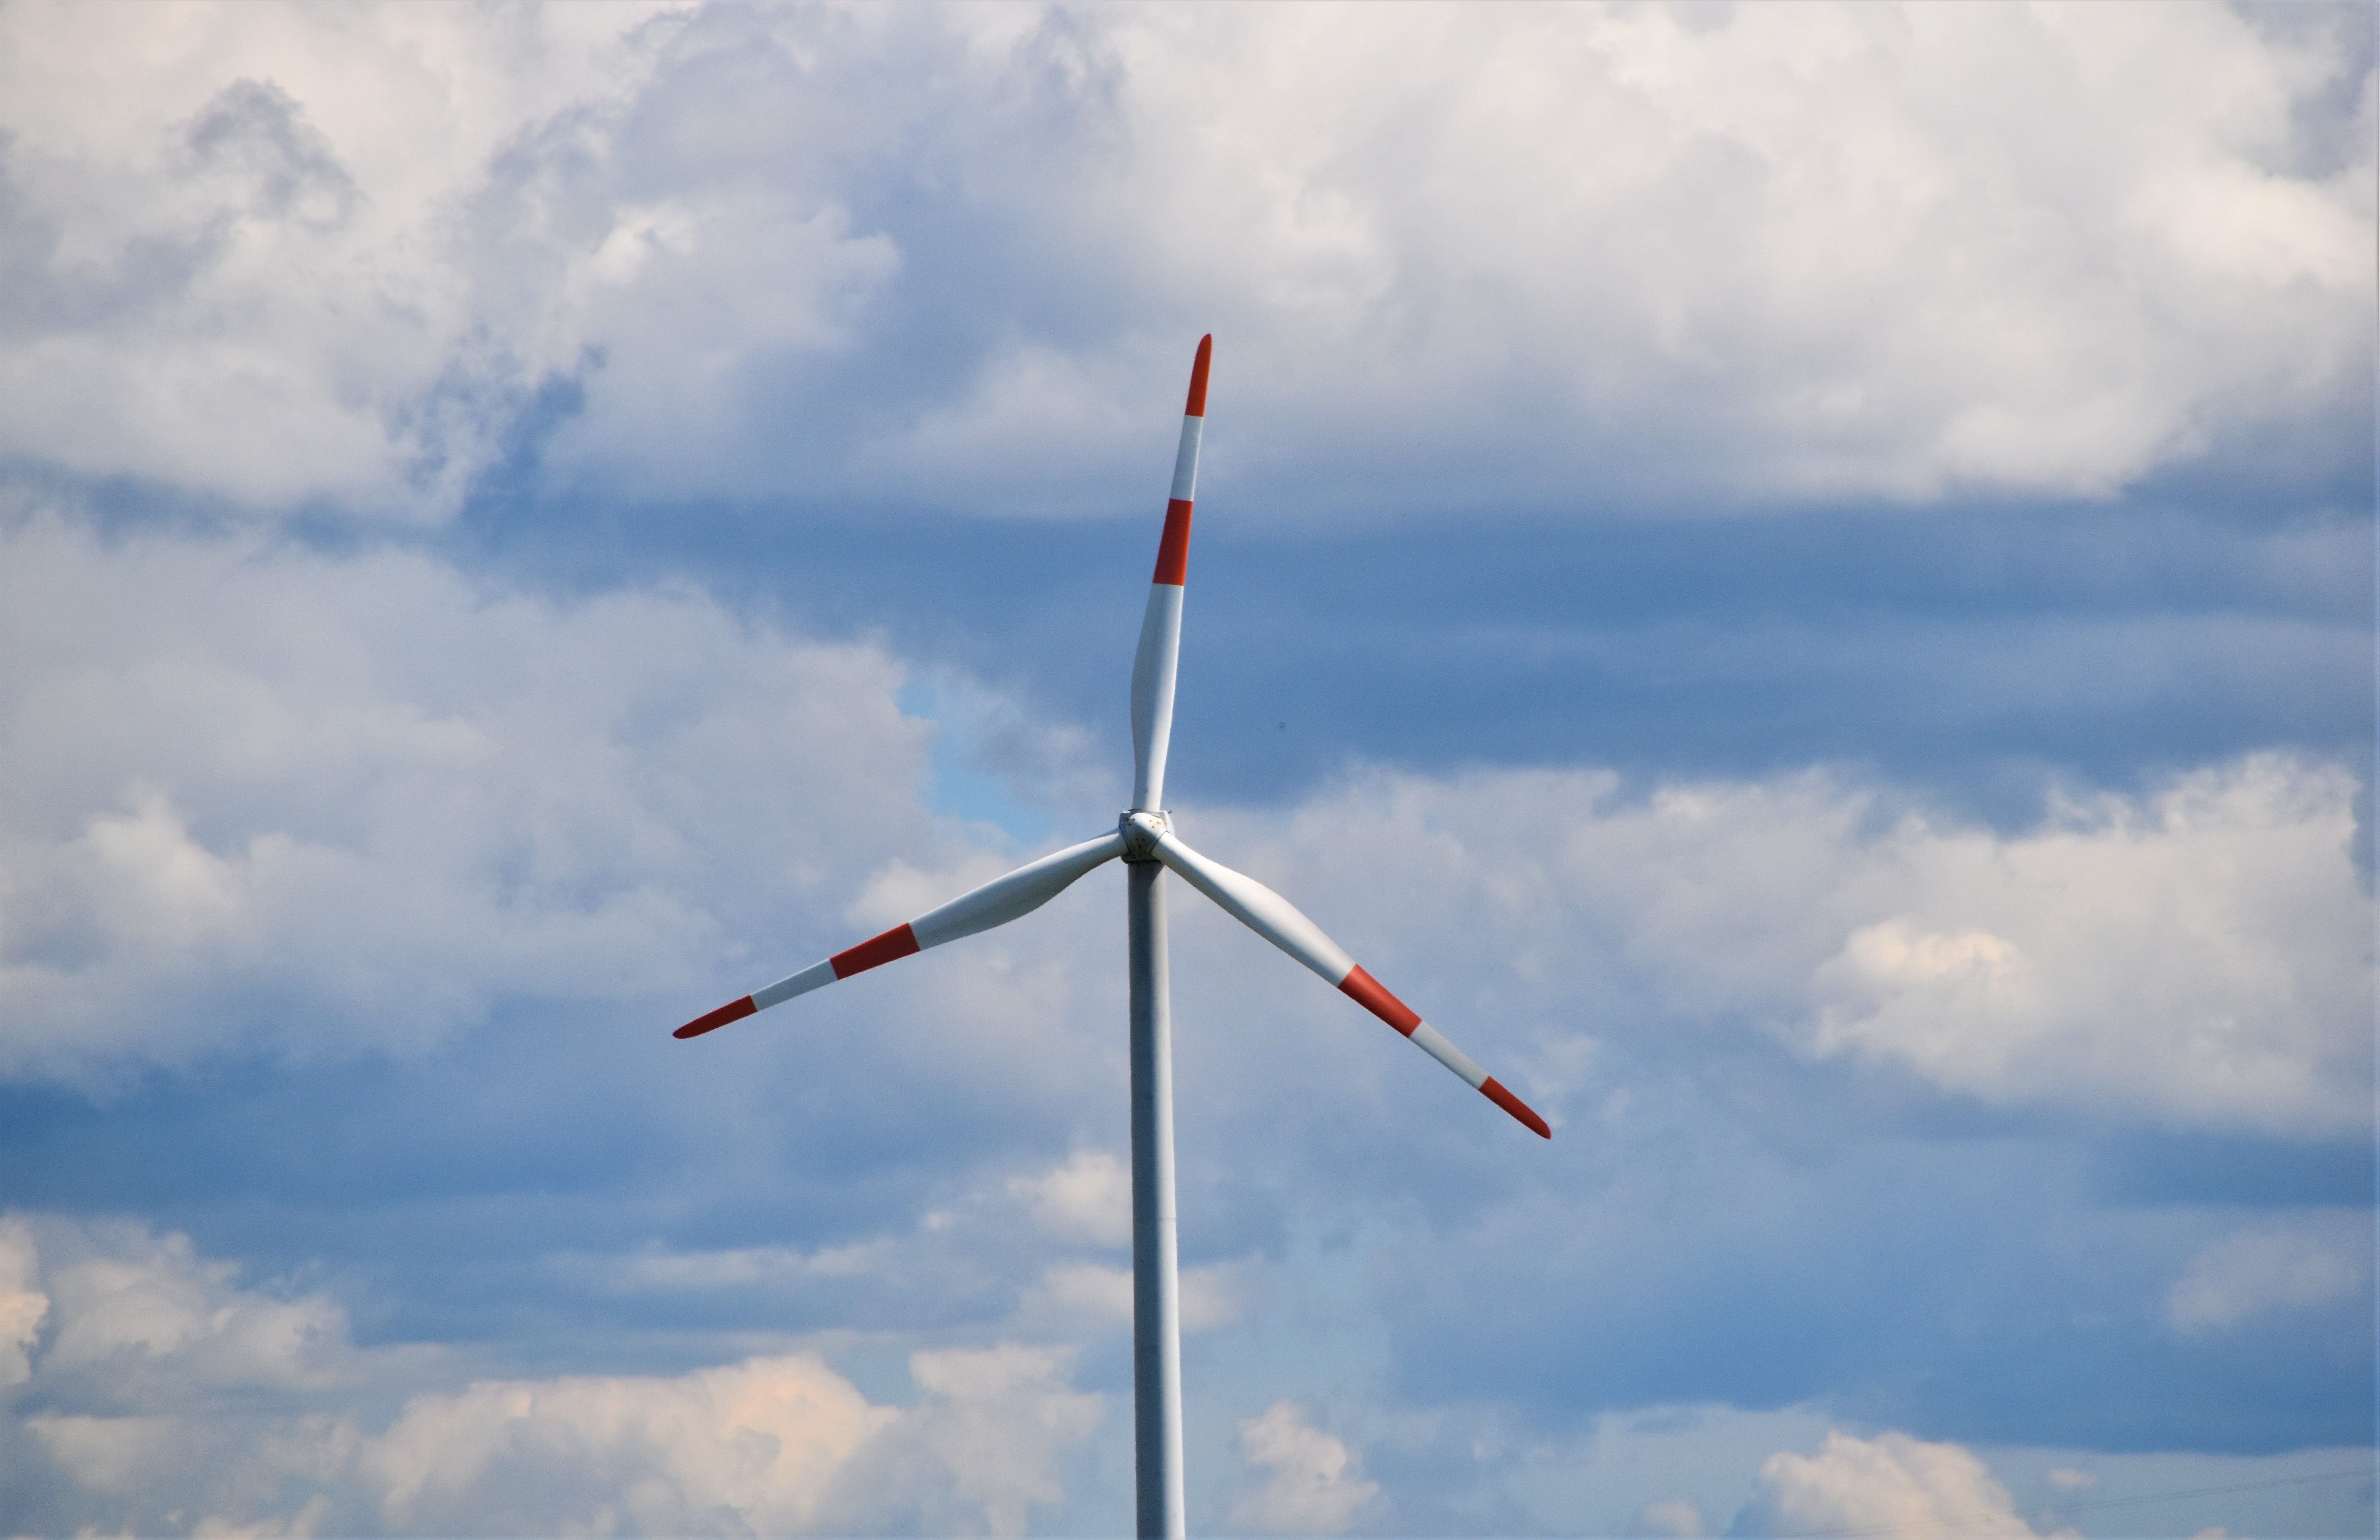working: (652, 324, 1591, 1283)
